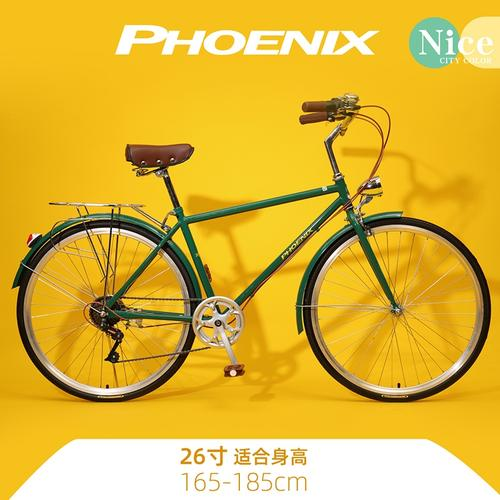单车: (11, 60, 495, 415)
